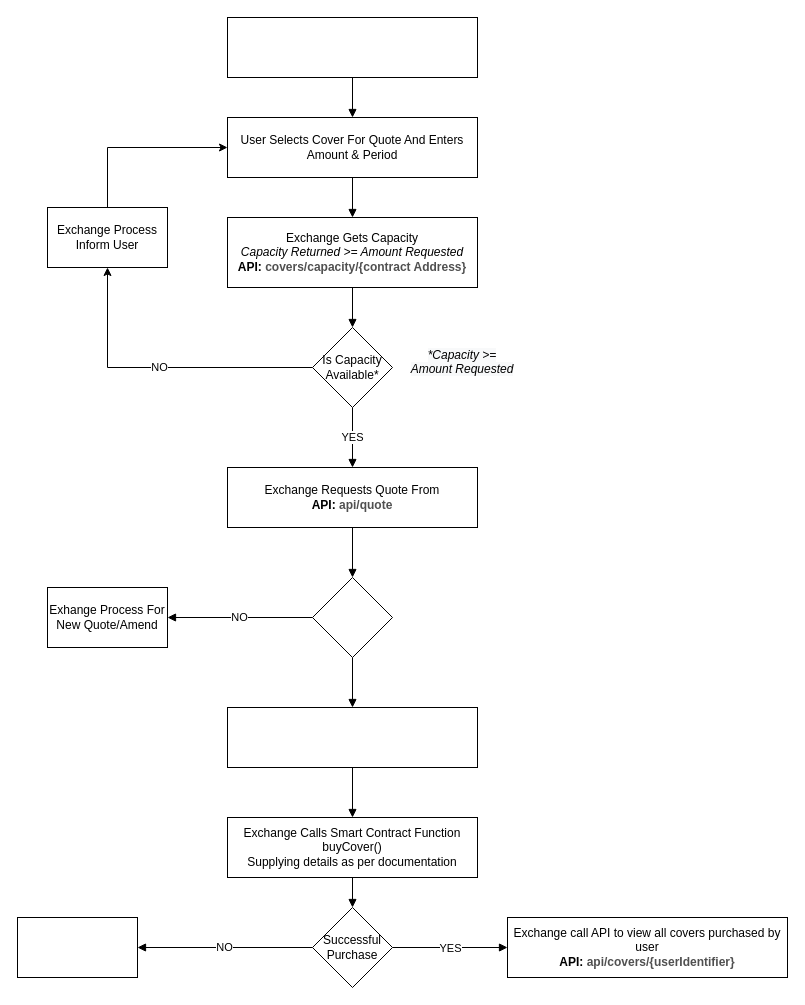
This 805x1005 diagram has some shape labels left out. Here are the shapes that lost their labels. From the top down, the centre of each, then its label:
At point (352, 47): "Exchange Request Available Covers From API: /api/covers".
At point (352, 617): "Quote Accepted By User".
At point (352, 737): "Exchange stores user identifier for future use".
At point (77, 947): "Exchange Process".
